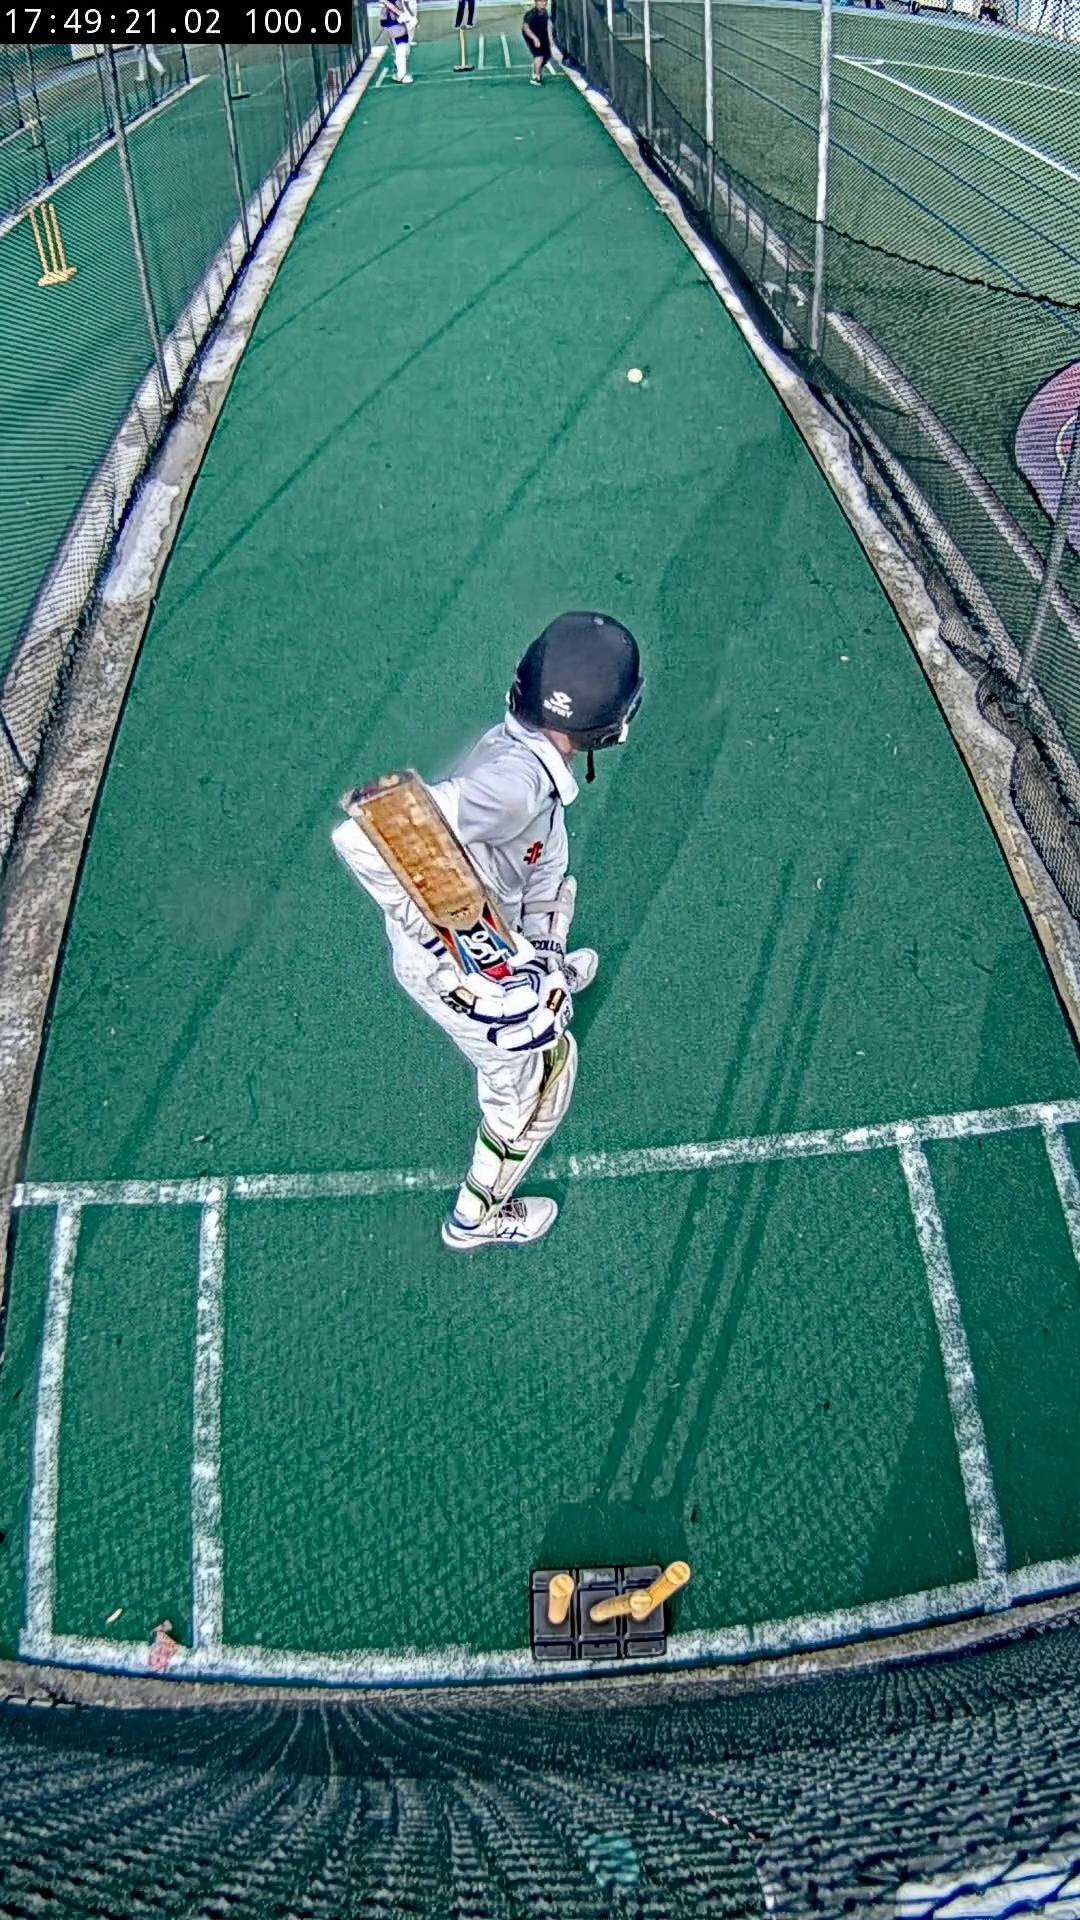ball: (626, 368, 645, 382)
bat: (342, 769, 537, 982)
gloves: (435, 956, 570, 1050)
helmet: (510, 612, 641, 750)
pads: (484, 1031, 578, 1204), (468, 1139, 488, 1178)
stumps: (529, 1560, 690, 1662)
